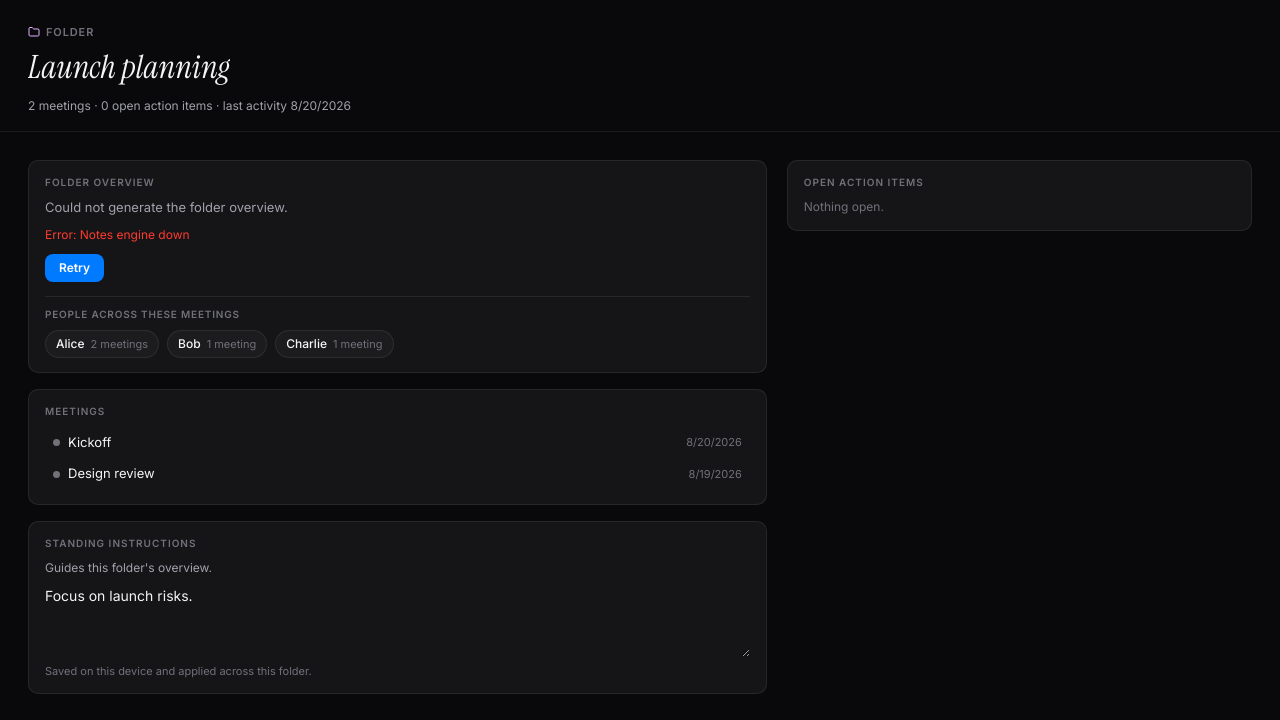
Scenario: FolderView › initial error with Retry
Expected: the text "Could not generate the folder overview." is shown, [45, 199, 288, 215]
Expected: the text "Error: Notes engine down" is shown, [45, 227, 190, 242]
Step 1. Click the button with aria-label "Retry generating folder overview" → (74, 268), box [45, 254, 104, 282]
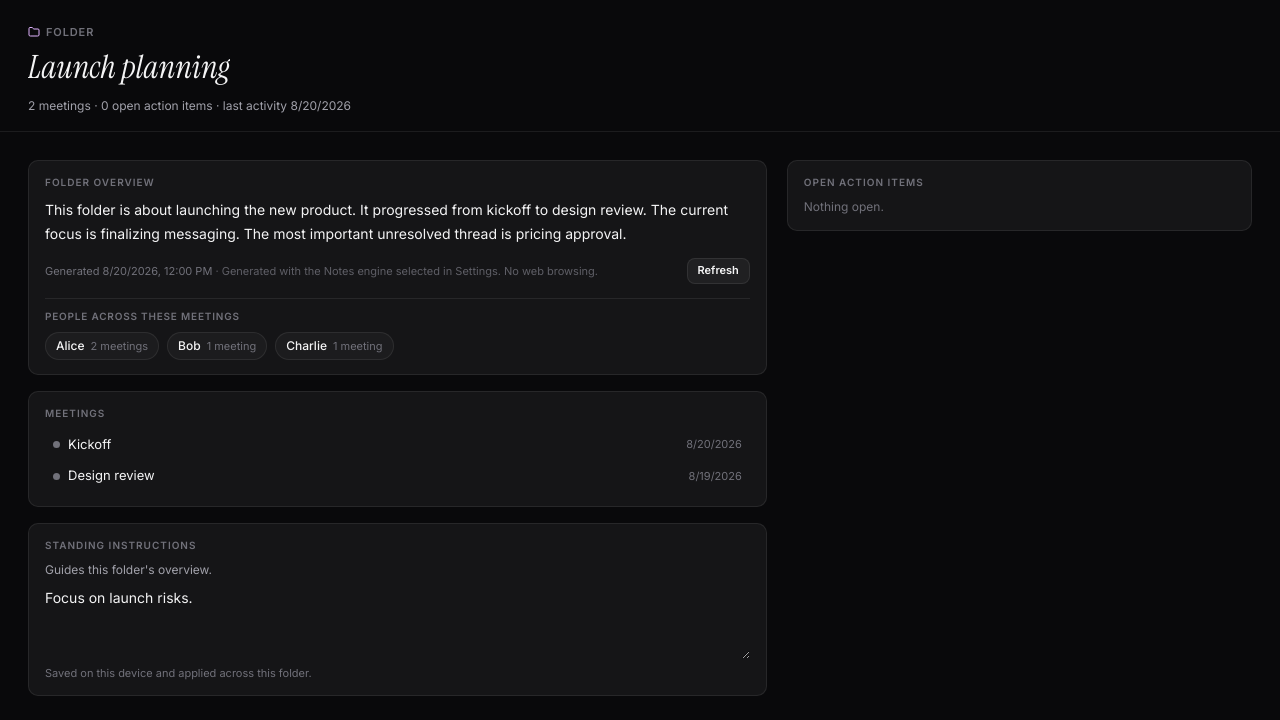
Expected: the text "This folder is about launching" is shown, [45, 201, 728, 242]
